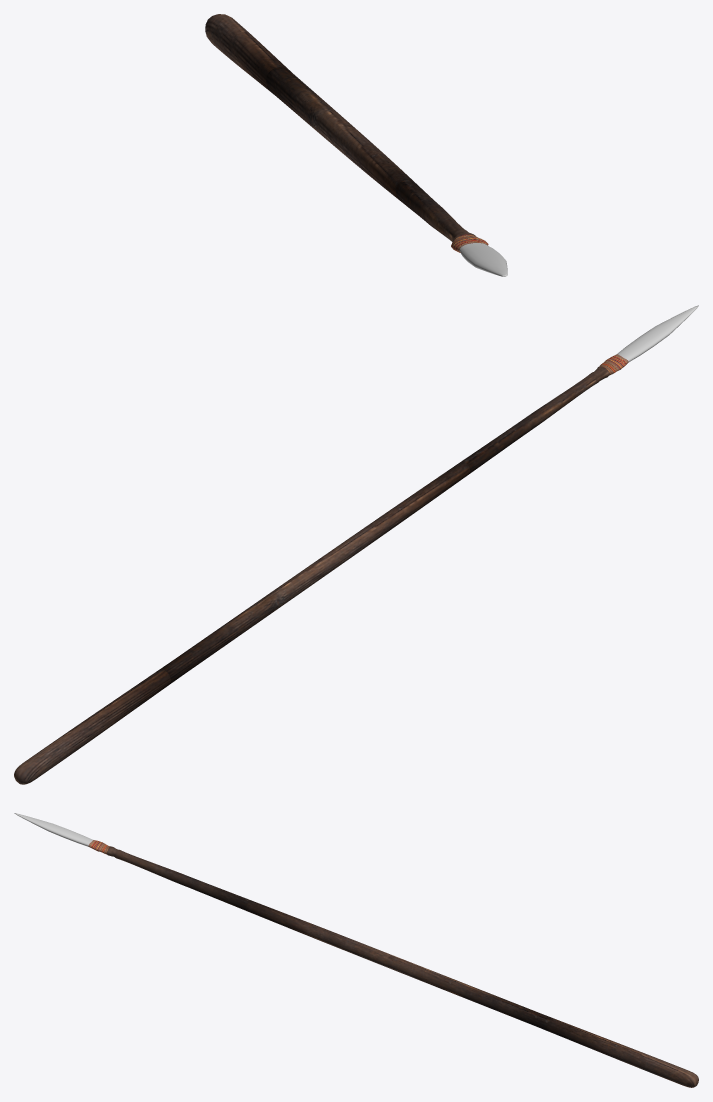
Rendered from Lanza.fbx.
The picture shows the model from 3 angles, top to bottom: view 1: azimuth 30°, elevation 25°; view 2: azimuth 150°, elevation 25°; view 3: azimuth 270°, elevation 25°; orthographic projection. The views are drawn at different scales.
Parts seen in each view (by area): view 1: Lanza; view 2: Lanza; view 3: Lanza.
Part boxes in pixels (x1,y1,x2,y2): Lanza: (205,14,507,276); Lanza: (14,305,698,784); Lanza: (14,813,698,1087).
Bounding box in the file's own units: 579 × 487 × 1693.
